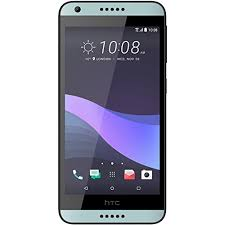htc: (56, 1, 168, 223)
